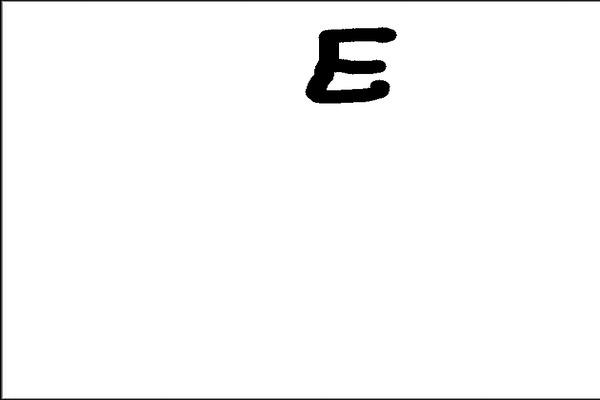E: (303, 24, 398, 105)
